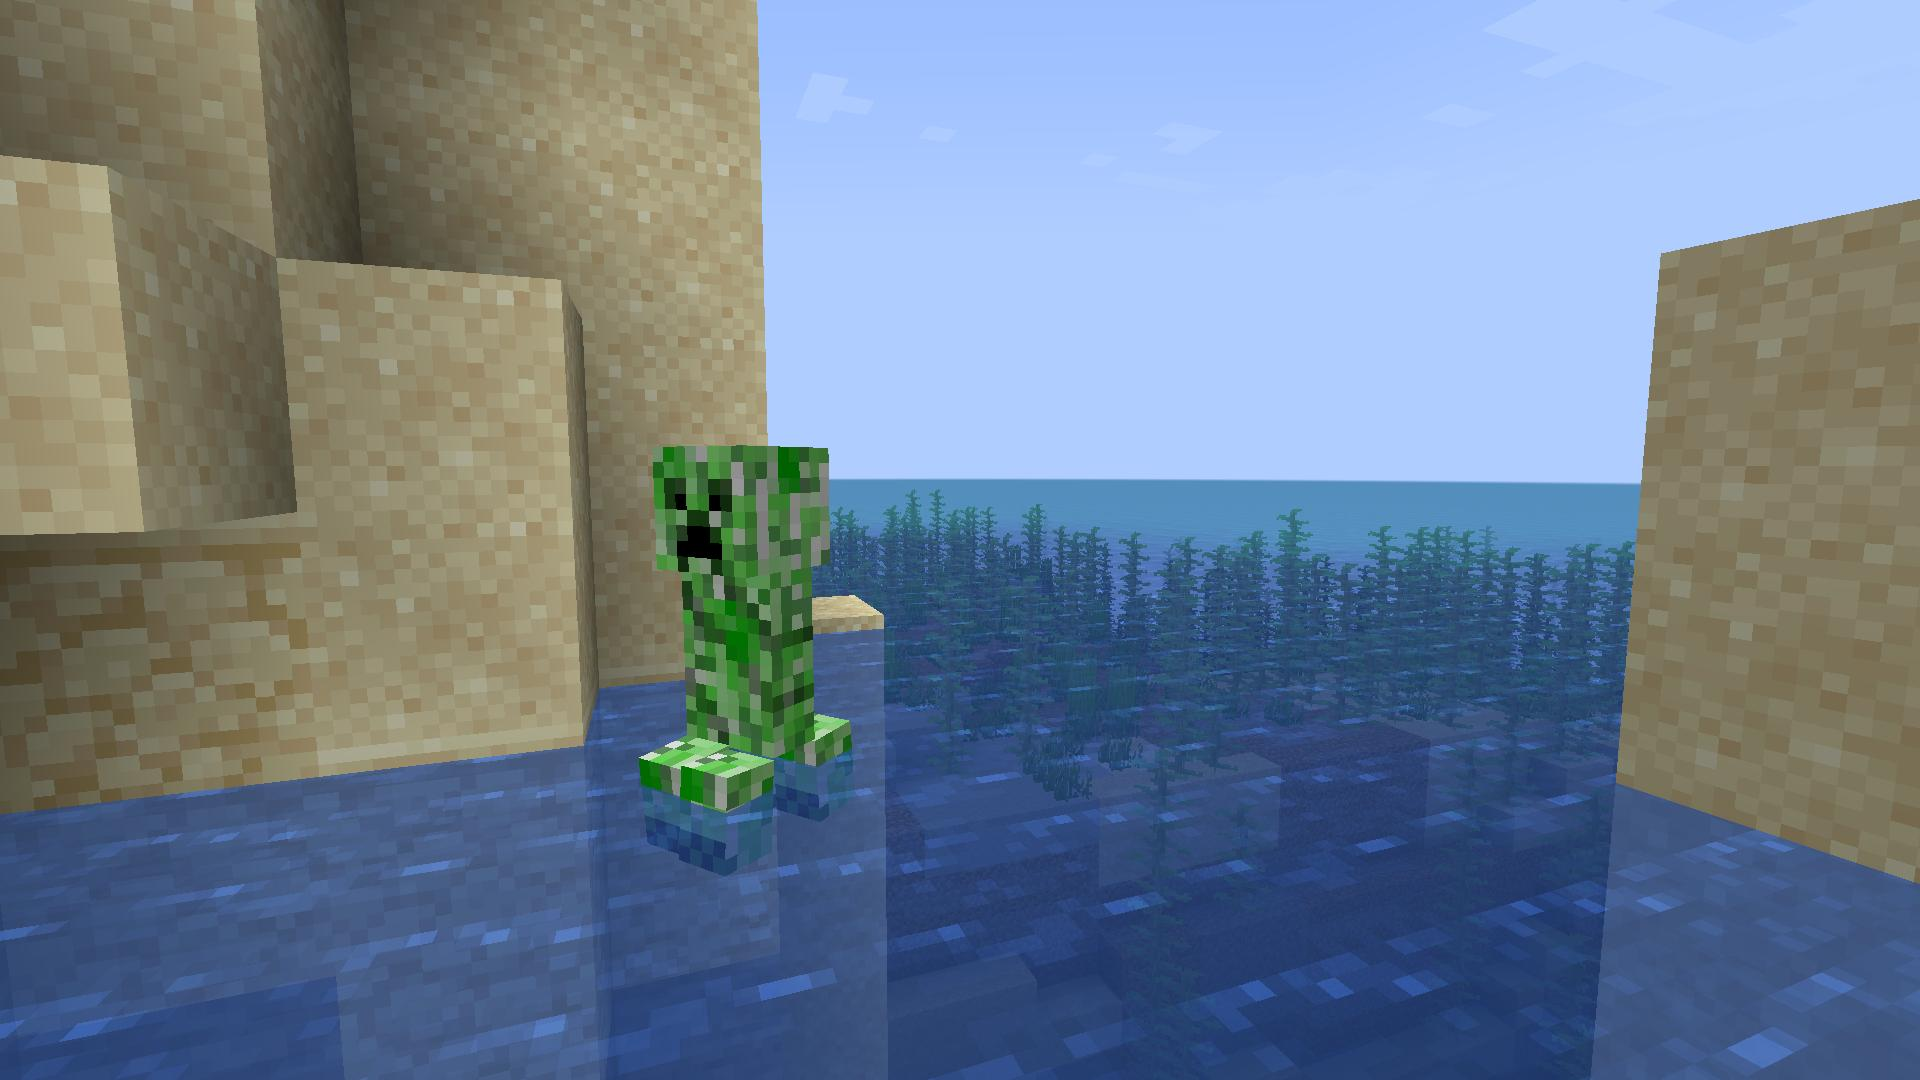creeper: (642, 433, 841, 880)
